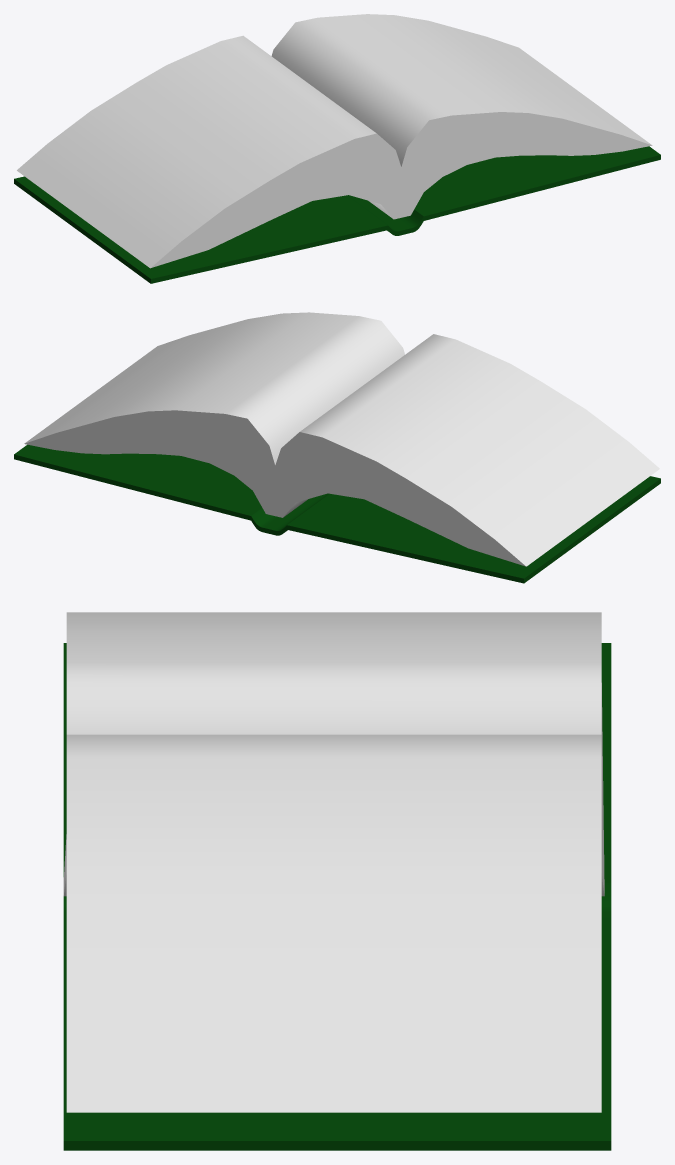
File: book.fbx
The picture shows the model from 3 angles, top to bottom: view 1: azimuth 30°, elevation 25°; view 2: azimuth 150°, elevation 25°; view 3: azimuth 270°, elevation 25°; orthographic projection. The views are drawn at different scales.
Parts seen in each view (by area): view 1: Cube.277; view 2: Cube.277; view 3: Cube.277.
Boxes of the visible parts, x1,y1,x2,y2 form: Cube.277: (14,14,660,283); Cube.277: (14,312,660,583); Cube.277: (63,612,611,1150).
Size of the model in its own units: 67.9 by 13.68 by 31.56.
